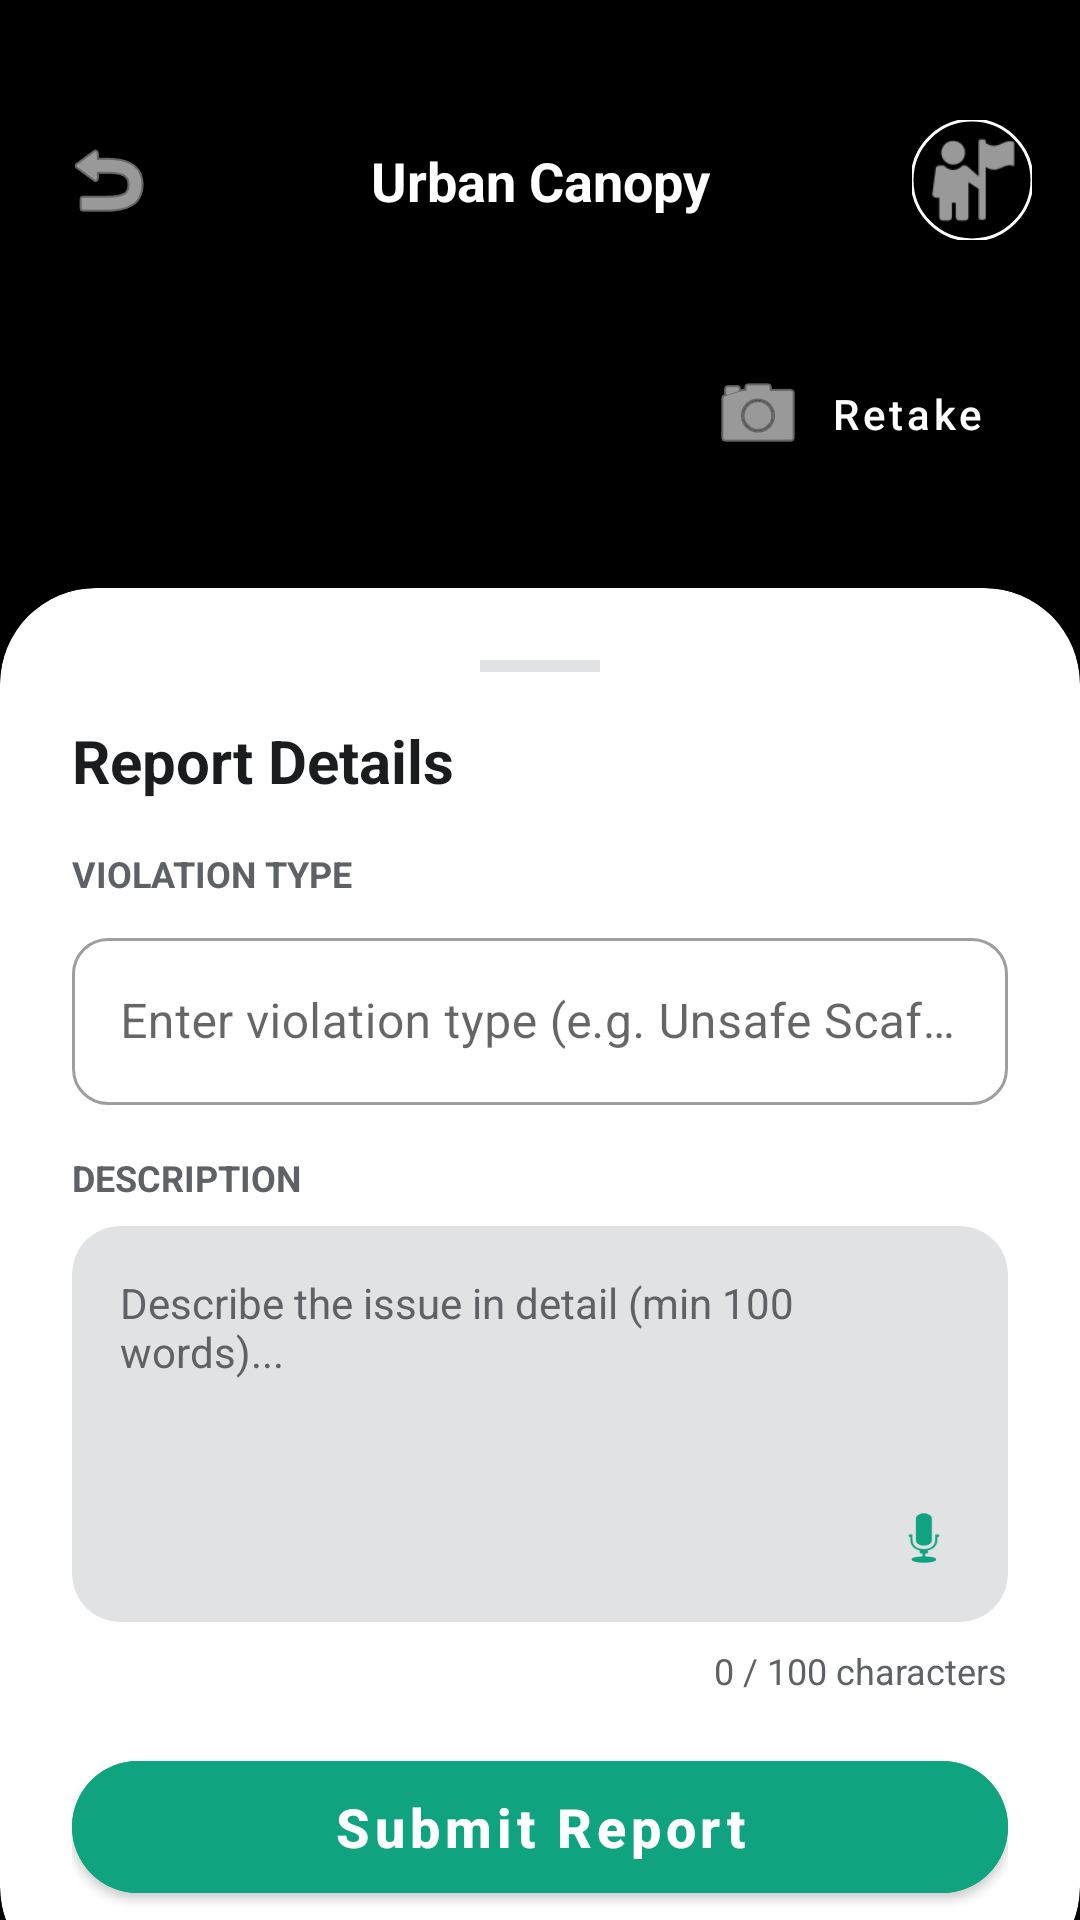

Where to tap for icons on this 1080×1920 app screen, as (x,y):
revert: (109,180)
speak now: (924,1538)
